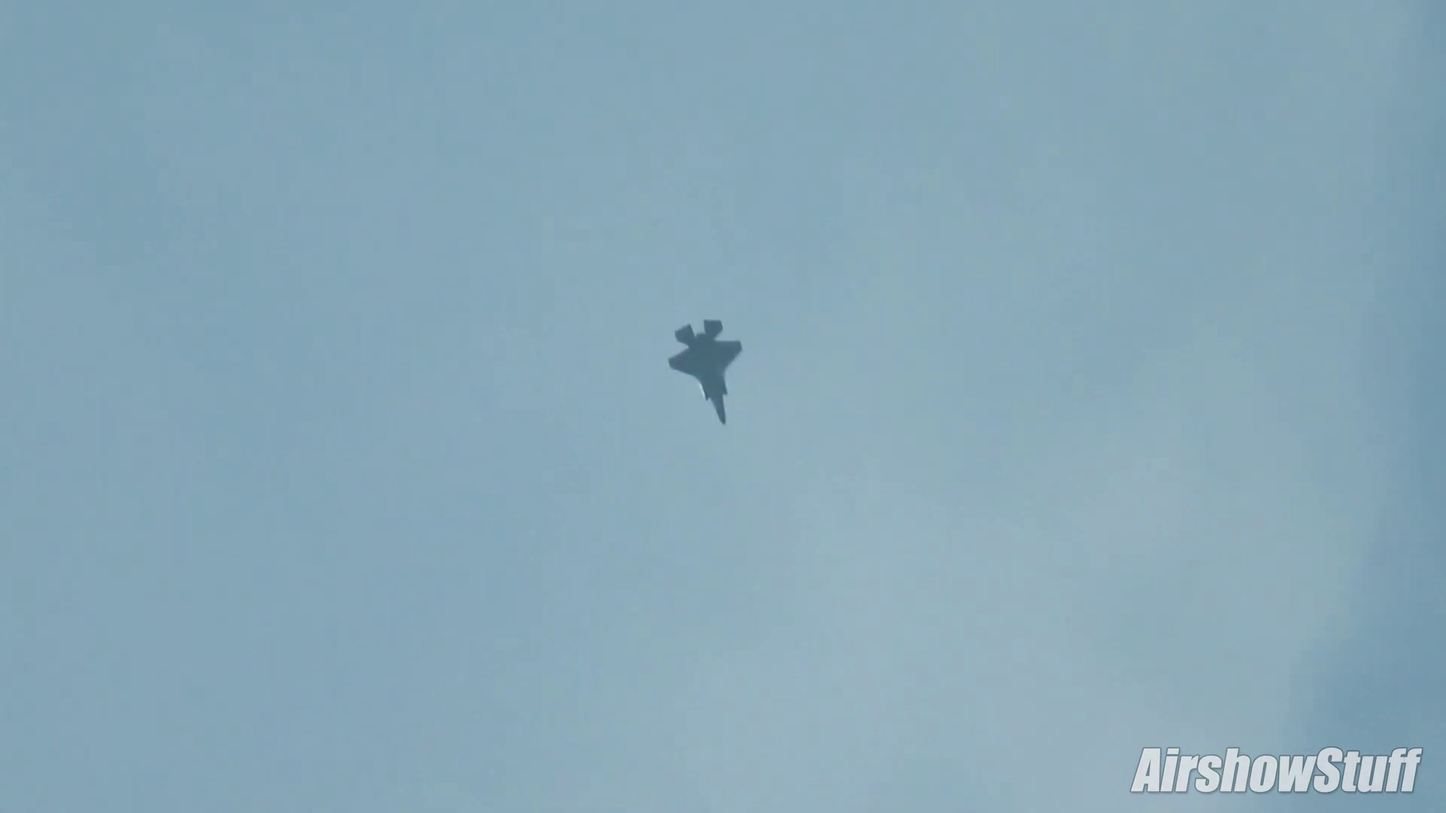F35: (654, 312, 759, 435)
